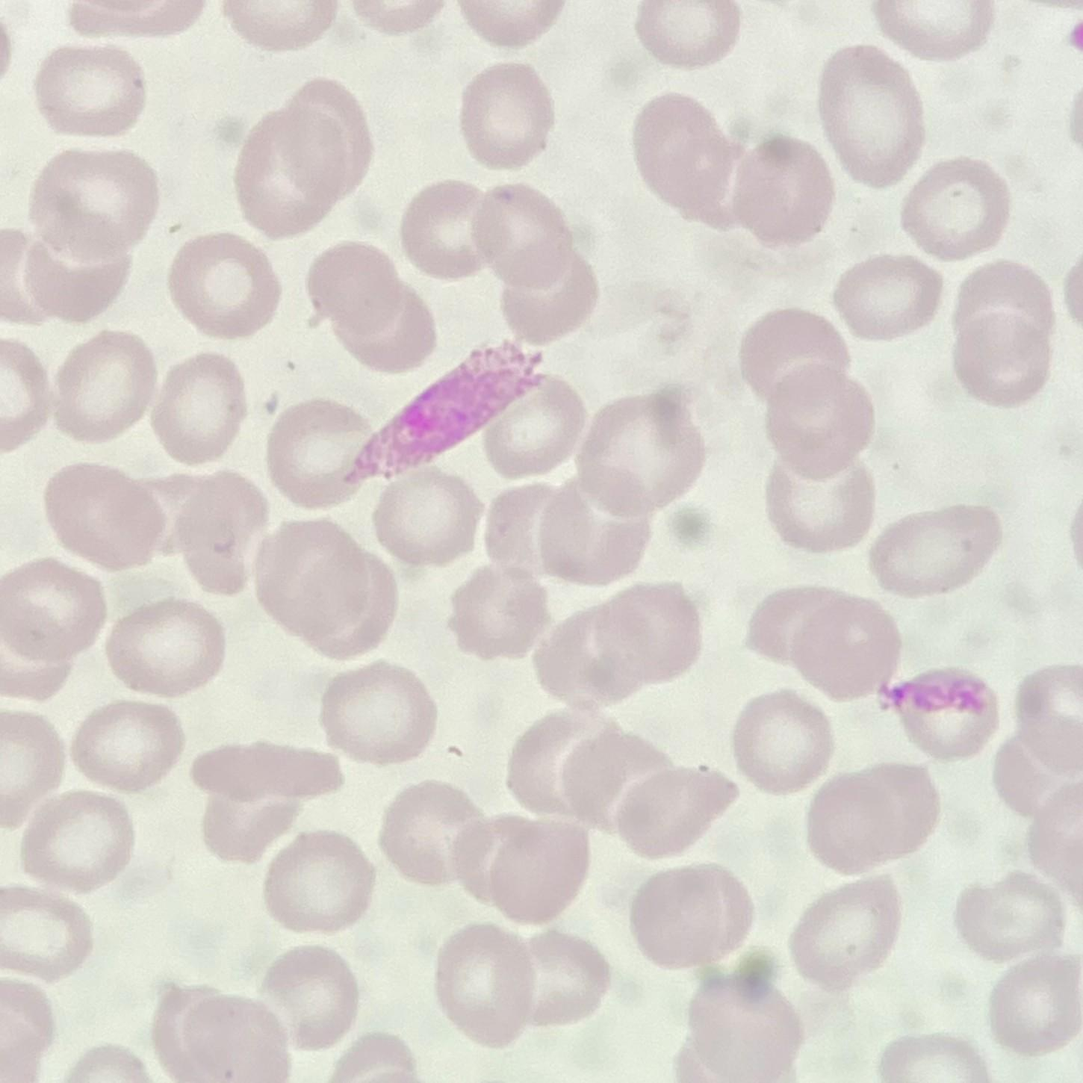Infected: (336, 340, 547, 486)
Uninfected: (631, 88, 757, 228), (577, 394, 707, 519), (30, 146, 162, 265), (233, 107, 349, 239), (822, 45, 926, 189), (786, 872, 908, 990), (256, 518, 371, 643), (435, 919, 542, 1052), (172, 467, 279, 598), (540, 467, 657, 586), (756, 363, 870, 480), (866, 505, 1003, 601), (45, 460, 168, 566), (264, 392, 374, 509), (103, 596, 228, 698), (508, 706, 618, 821), (532, 602, 655, 704), (689, 973, 807, 1079), (261, 829, 380, 934), (170, 230, 280, 343), (605, 766, 739, 858), (47, 329, 153, 445), (788, 592, 897, 704), (764, 441, 872, 554), (317, 663, 437, 764), (732, 131, 833, 249), (487, 811, 594, 922), (480, 370, 586, 482), (599, 581, 707, 688), (902, 155, 1011, 261), (19, 790, 138, 887), (295, 549, 400, 658), (379, 779, 488, 884), (444, 557, 553, 661), (560, 729, 669, 833), (282, 77, 374, 200), (0, 557, 105, 663), (258, 941, 362, 1048), (69, 699, 187, 793), (181, 740, 346, 807), (469, 180, 571, 288), (732, 689, 834, 797), (739, 307, 852, 404), (456, 62, 556, 171), (956, 867, 1069, 963), (28, 213, 128, 321), (32, 47, 146, 141), (629, 861, 731, 964), (375, 467, 483, 564), (151, 355, 246, 464), (304, 238, 403, 342), (896, 664, 1000, 763), (196, 775, 311, 864), (950, 310, 1053, 409), (398, 178, 495, 282), (515, 925, 612, 1029), (984, 960, 1083, 1060), (958, 254, 1056, 354), (807, 773, 903, 875), (185, 990, 290, 1083), (0, 885, 98, 982), (497, 251, 598, 345), (833, 256, 945, 339), (1014, 660, 1083, 778), (874, 0, 999, 62), (629, 0, 742, 68)
